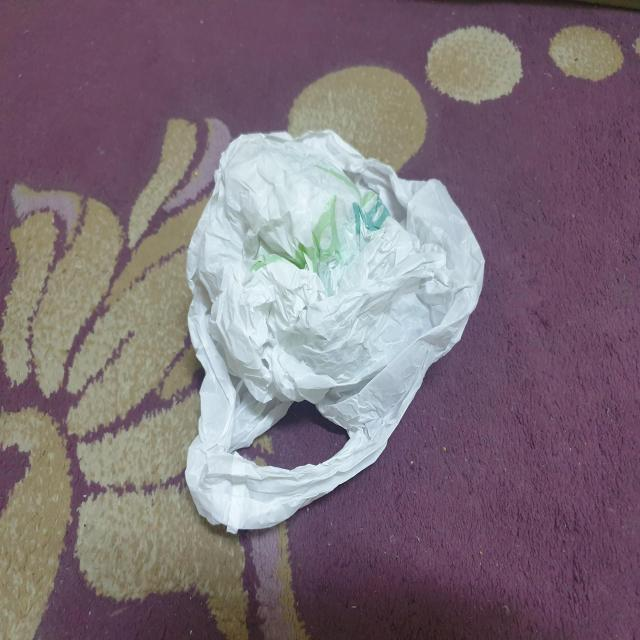plastic bag: (180, 122, 488, 541)
